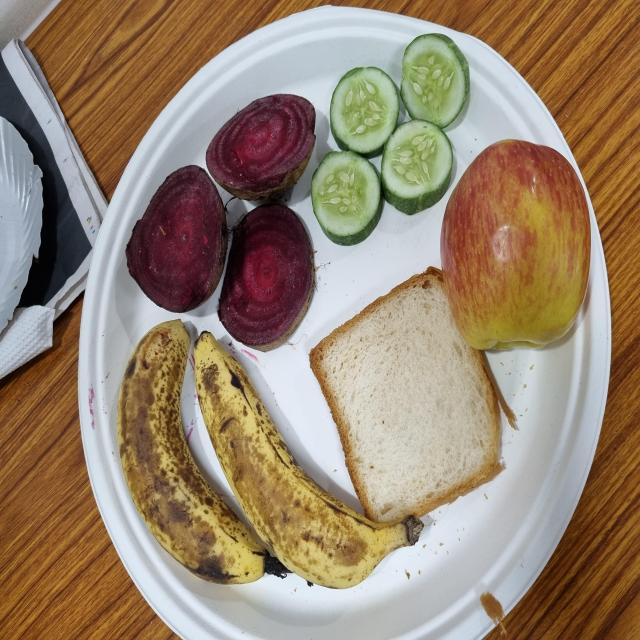apple: (440, 140, 591, 354)
banana: (185, 334, 423, 592), (118, 325, 283, 586)
cucumber: (400, 33, 472, 134), (328, 67, 404, 162), (378, 121, 454, 216), (310, 151, 385, 247)
